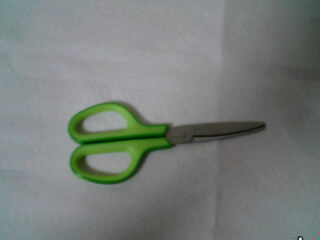003_classes: (63, 96, 268, 186)
